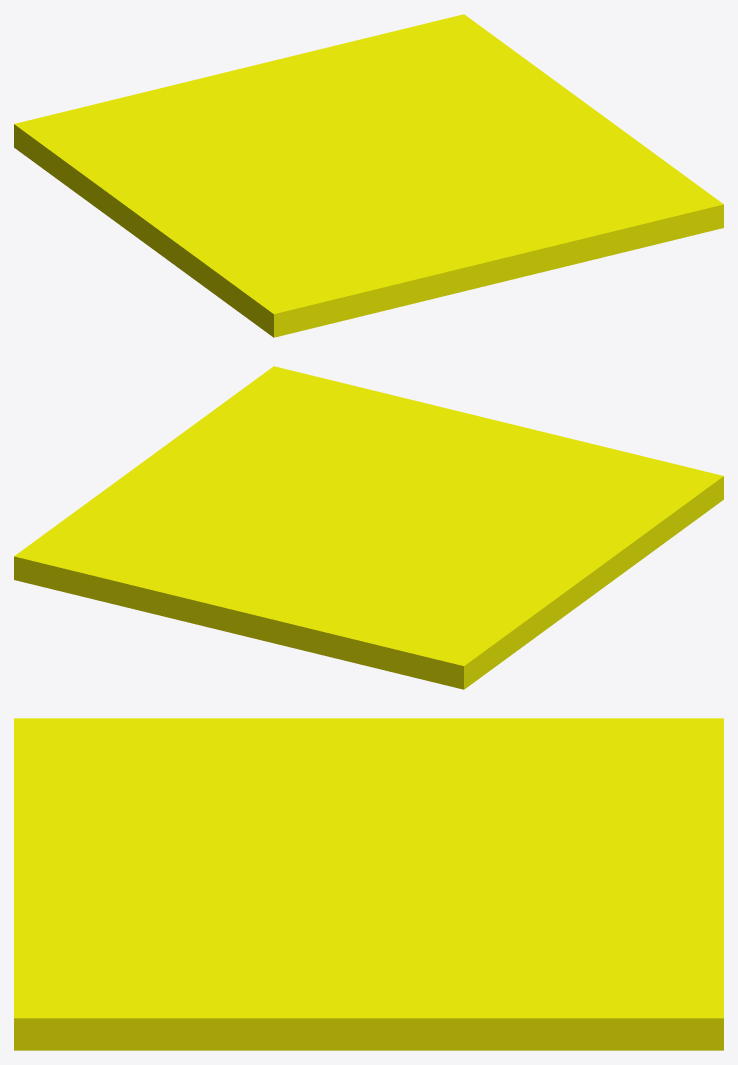
File: sidewalk-nocurb-3m.glb
3 views of the same model, one above another, from view 1: azimuth 30°, elevation 25°; view 2: azimuth 150°, elevation 25°; view 3: azimuth 270°, elevation 25° (orthographic). The views are drawn at different scales.
Visible parts, largest first — view 1: Sidewalk_NoCurb_3m; view 2: Sidewalk_NoCurb_3m; view 3: Sidewalk_NoCurb_3m.
Boxes of the visible parts, x1,y1,x2,y2 form: Sidewalk_NoCurb_3m: [14, 14, 723, 337]; Sidewalk_NoCurb_3m: [14, 366, 723, 689]; Sidewalk_NoCurb_3m: [14, 718, 723, 1050].
Bounding box in the file's own units: 3 × 0.15 × 3.
1 material, 1 textured.
